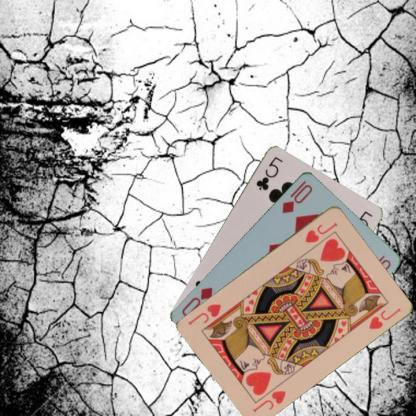10d: (279, 178, 314, 214)
5c: (253, 154, 284, 191)
Jh: (250, 379, 287, 413), (302, 219, 339, 246)
